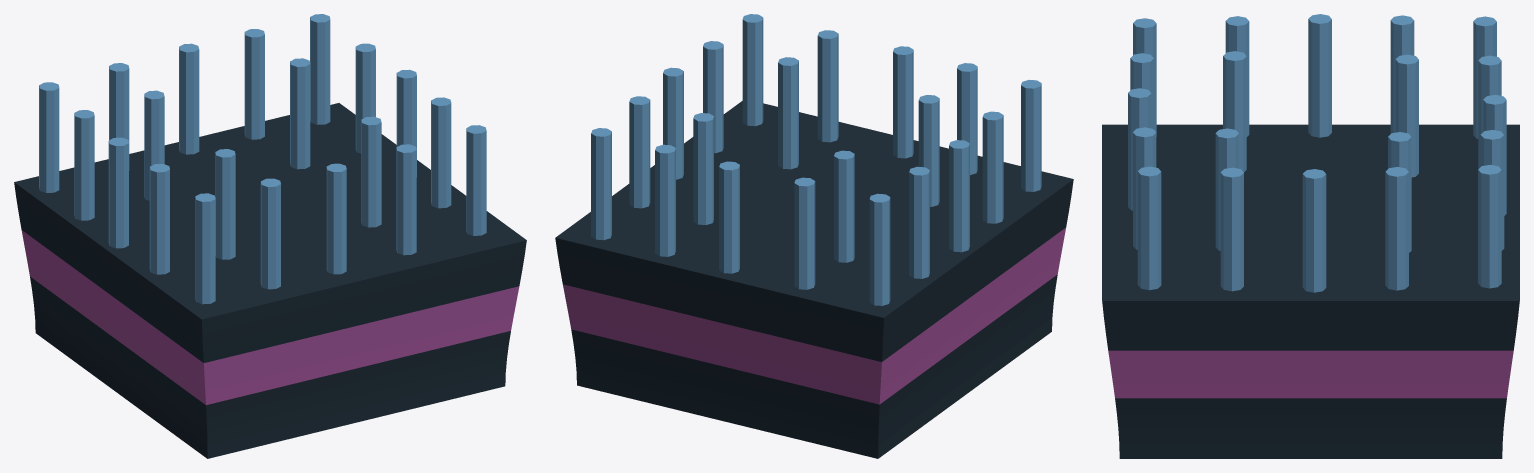
Rendered from pinball_map_bonkers.glb.
The picture shows the model from 3 angles, left to right: view 1: azimuth 30°, elevation 25°; view 2: azimuth 150°, elevation 25°; view 3: azimuth 270°, elevation 25°; orthographic projection. The views are drawn at different scales.
Parts seen in each view (by area): view 1: MainFrame, Pins; view 2: MainFrame, Pins; view 3: MainFrame, Pins.
Part boxes in pixels (x1,y1,x2,y2): MainFrame: (14, 103, 526, 458); Pins: (39, 14, 486, 304); MainFrame: (555, 101, 1073, 458); Pins: (591, 14, 1041, 305); MainFrame: (1102, 124, 1519, 458); Pins: (1128, 14, 1506, 292).
Size of the model in its own units: 25.24 by 18.61 by 25.24.
